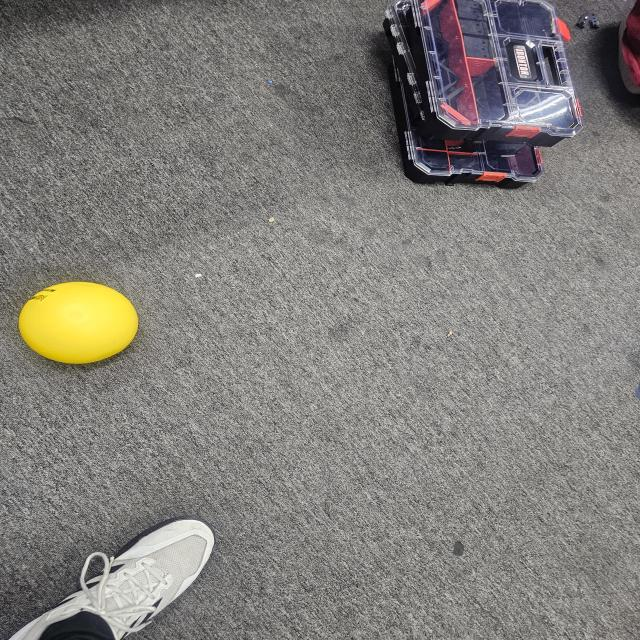Fuel: (12, 275, 148, 371)
